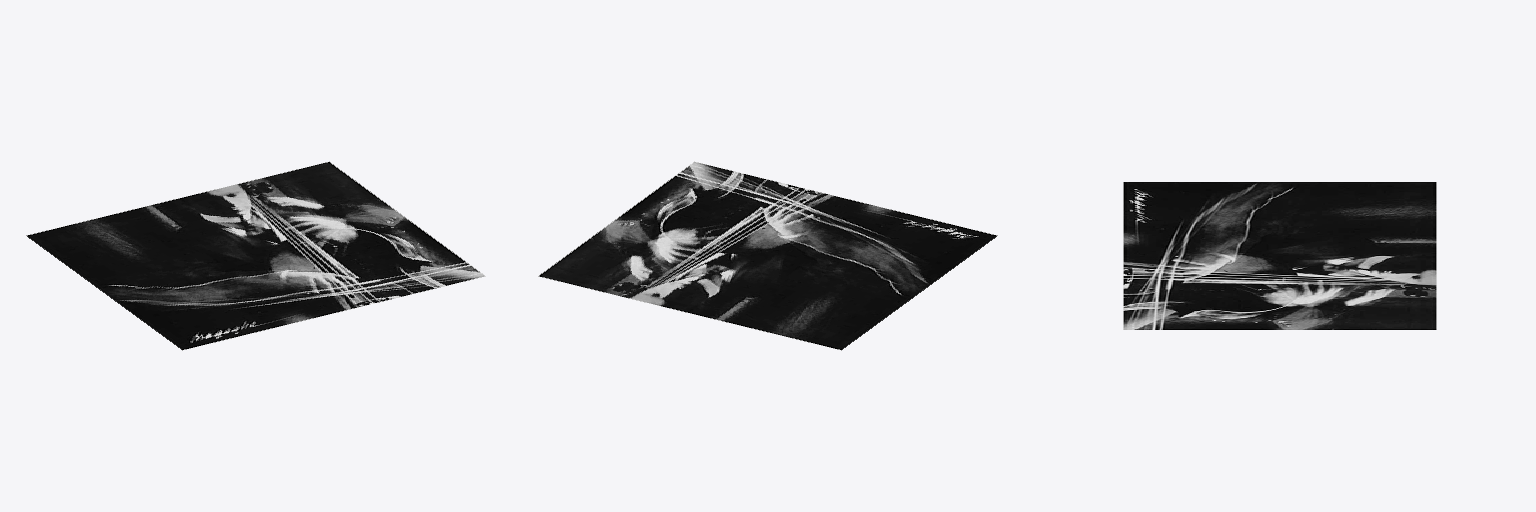
3 renders of one model, left to right at view 1: azimuth 30°, elevation 25°; view 2: azimuth 150°, elevation 25°; view 3: azimuth 270°, elevation 25°, orthographic.
Parts seen in each view (by area): view 1: Plane001; view 2: Plane001; view 3: Plane001.
Boxes of the visible parts, <box> form: Plane001: <box>26,161,485,350</box>; Plane001: <box>538,161,997,350</box>; Plane001: <box>1123,182,1436,329</box>.
Size of the model in its own units: 3.93 by 0 by 3.52.
1 materials, 1 textured.